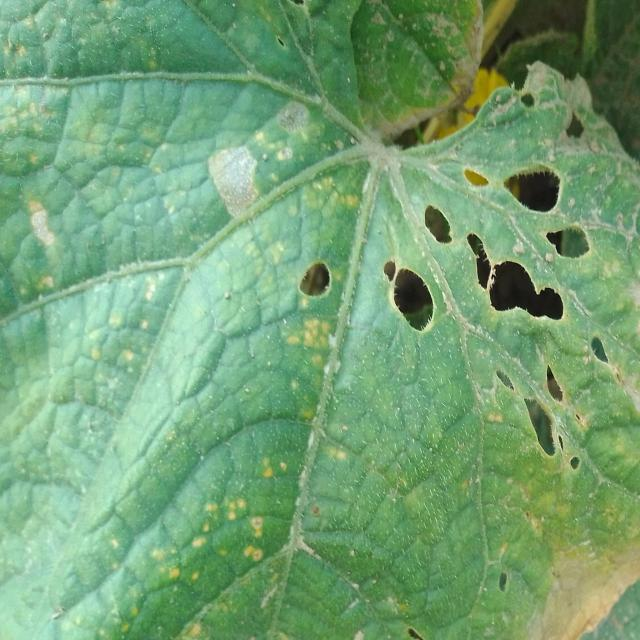cucumber_anthracnose: (28, 57, 638, 635)
